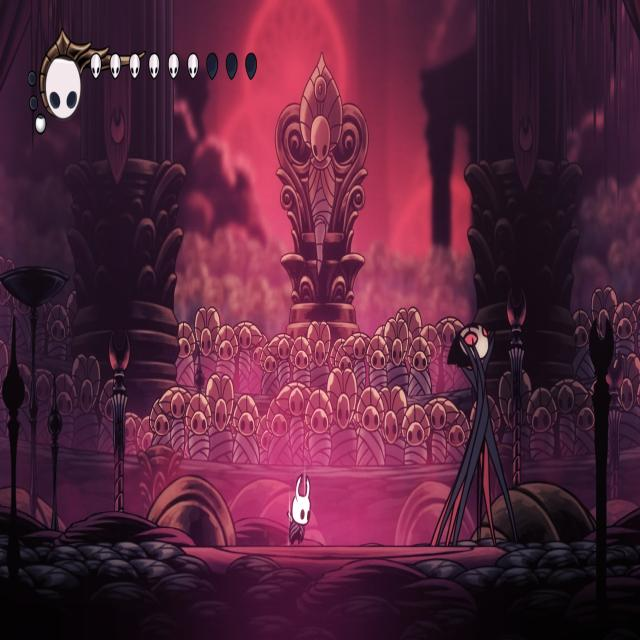Grimm: (422, 316, 513, 546)
Player: (285, 468, 312, 548)
